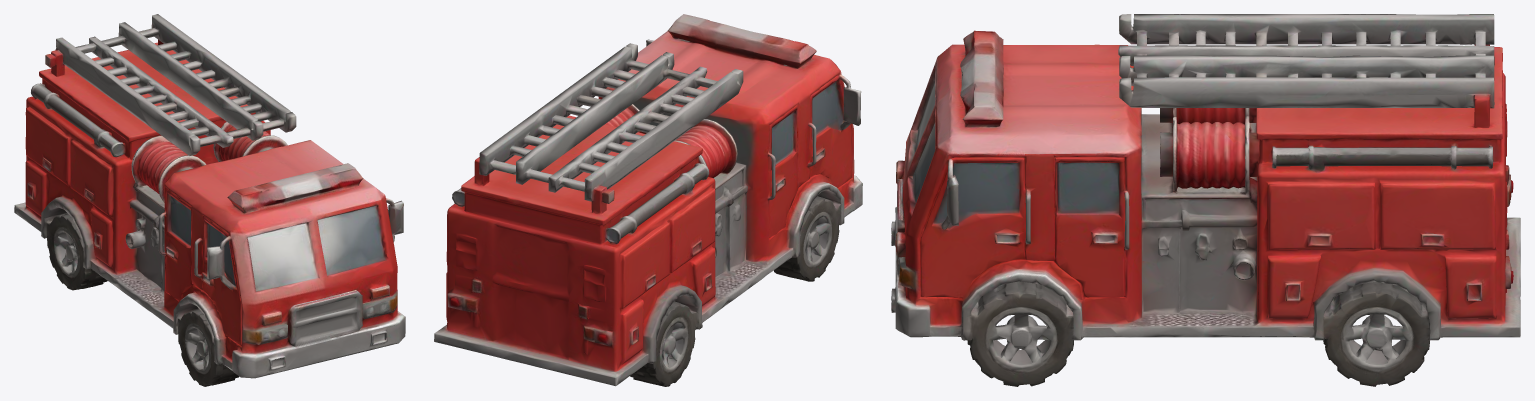
Rendered from caminhao_bombeiros.glb.
The picture shows the model from 3 angles, left to right: view 1: azimuth 30°, elevation 25°; view 2: azimuth 150°, elevation 25°; view 3: azimuth 270°, elevation 25°; orthographic projection. The views are drawn at different scales.
Parts seen in each view (by area): view 1: tripo_node_87105d69-865b-4680-b3d1-836a2af6b1c2; view 2: tripo_node_87105d69-865b-4680-b3d1-836a2af6b1c2; view 3: tripo_node_87105d69-865b-4680-b3d1-836a2af6b1c2.
Boxes of the visible parts, x1,y1,x2,y2 form: tripo_node_87105d69-865b-4680-b3d1-836a2af6b1c2: (14,14,405,386); tripo_node_87105d69-865b-4680-b3d1-836a2af6b1c2: (434,14,862,386); tripo_node_87105d69-865b-4680-b3d1-836a2af6b1c2: (891,14,1520,386).
Size of the model in its own units: 4.11 by 4.24 by 8.5.
1 material, 1 textured.
